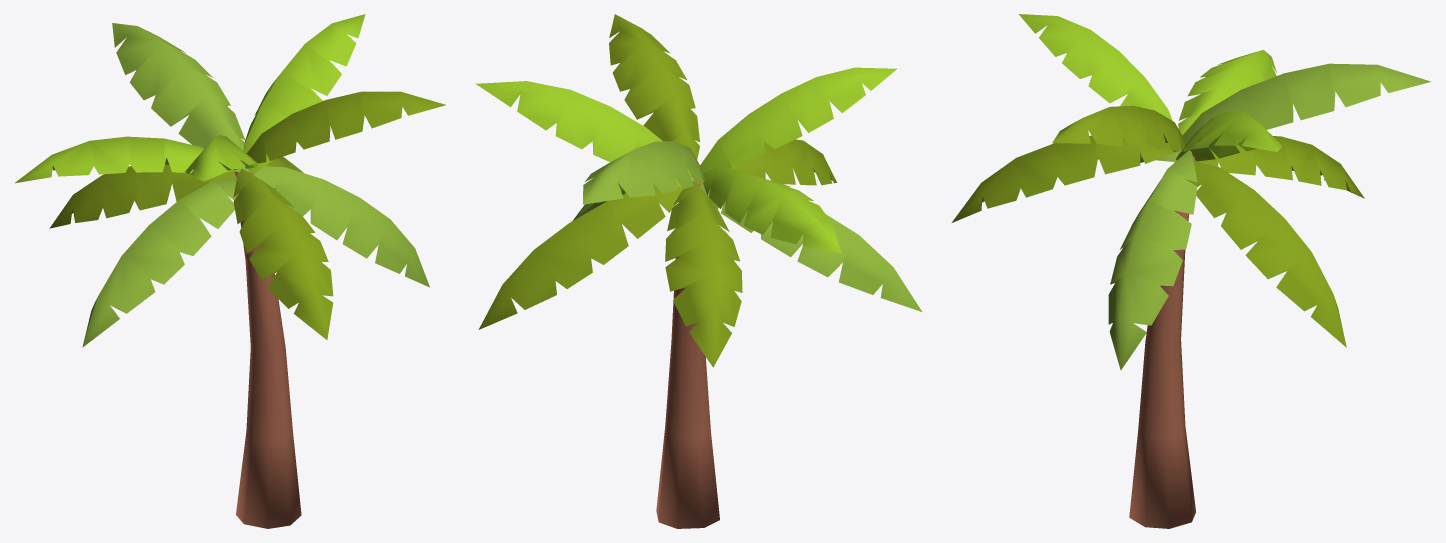
The model's file is Palm_Lime_1.fbx.
The picture shows the model from 3 angles, left to right: view 1: azimuth 30°, elevation 25°; view 2: azimuth 150°, elevation 25°; view 3: azimuth 270°, elevation 25°; orthographic projection. The views are drawn at different scales.
Visible parts, largest first — view 1: Cube_131, Plane_160, Plane_161, Plane_156, Plane_185, Plane_162, Plane_159, Plane_184, Plane_158, Plane_157; view 2: Cube_131, Plane_158, Plane_163, Plane_157, Plane_162, Plane_159, Plane_184, Plane_161, Plane_156, Plane_160; view 3: Cube_131, Plane_185, Plane_163, Plane_156, Plane_160, Plane_157, Plane_158, Plane_162, Plane_184, Plane_159.
Part boxes in pixels (left/top/right/bottom): Cube_131: left=235, top=172, right=301, bottom=528; Plane_160: left=233, top=168, right=333, bottom=339; Plane_161: left=82, top=177, right=239, bottom=347; Plane_156: left=112, top=23, right=248, bottom=172; Plane_185: left=253, top=166, right=429, bottom=287; Plane_162: left=246, top=91, right=445, bottom=163; Plane_159: left=243, top=14, right=365, bottom=174; Plane_184: left=14, top=136, right=235, bottom=183; Plane_158: left=49, top=164, right=236, bottom=228; Plane_157: left=185, top=135, right=257, bottom=181; Cube_131: left=656, top=181, right=719, bottom=528; Plane_158: left=665, top=181, right=742, bottom=367; Plane_163: left=478, top=183, right=683, bottom=329; Plane_157: left=700, top=67, right=897, bottom=173; Plane_162: left=609, top=14, right=699, bottom=174; Plane_159: left=475, top=81, right=699, bottom=188; Plane_184: left=701, top=166, right=841, bottom=253; Plane_161: left=699, top=183, right=922, bottom=312; Plane_156: left=583, top=141, right=704, bottom=204; Plane_160: left=729, top=139, right=836, bottom=185; Cube_131: left=1129, top=153, right=1195, bottom=528; Plane_185: left=1108, top=150, right=1197, bottom=370; Plane_163: left=1188, top=161, right=1346, bottom=347; Plane_156: left=1173, top=63, right=1431, bottom=151; Plane_160: left=952, top=135, right=1178, bottom=222; Plane_157: left=1019, top=14, right=1172, bottom=143; Plane_158: left=1174, top=136, right=1364, bottom=198; Plane_162: left=1052, top=105, right=1187, bottom=151; Plane_184: left=1178, top=50, right=1276, bottom=135; Plane_159: left=1176, top=111, right=1282, bottom=161.
Bounding box in the file's own units: 502 × 574 × 560.
